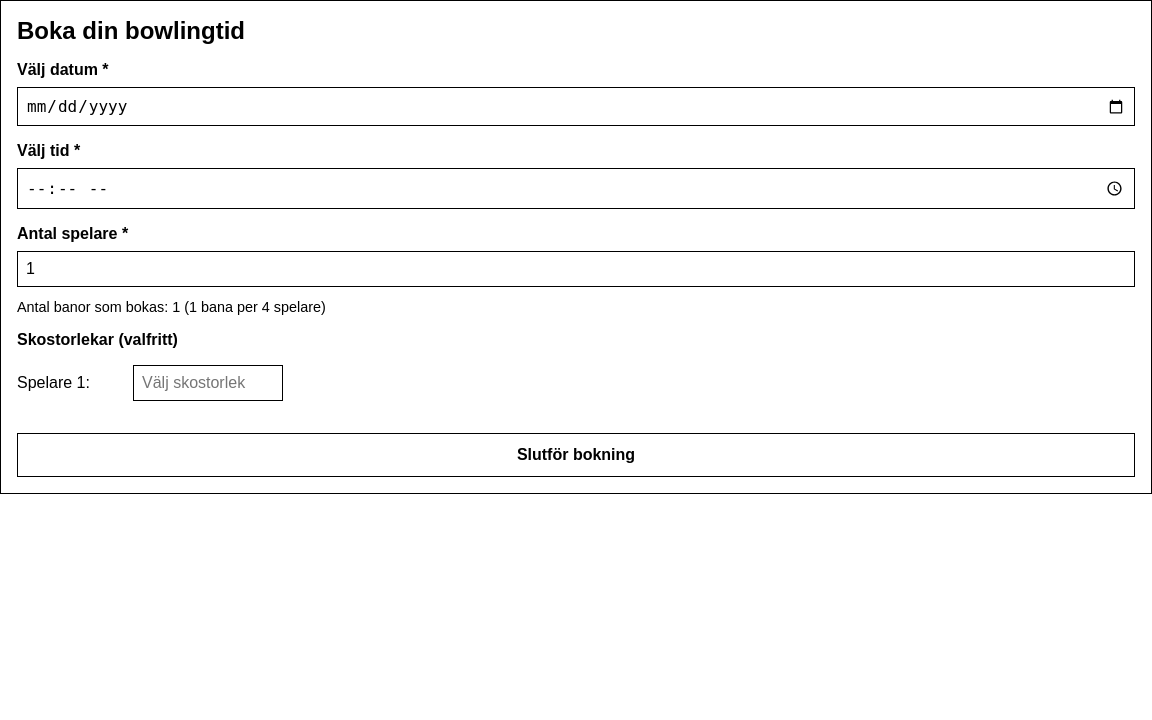
Test case: BookingPage › User Story 3: Ta bort skostorleksfält › ska kunna ta bort skostorlek genom att klicka på "-"-knappen
The width and height of the screenshot is (1152, 720).
In the number field with test id "shoe-size-input-1": point(208, 383) [133,365,283,401], type "42"
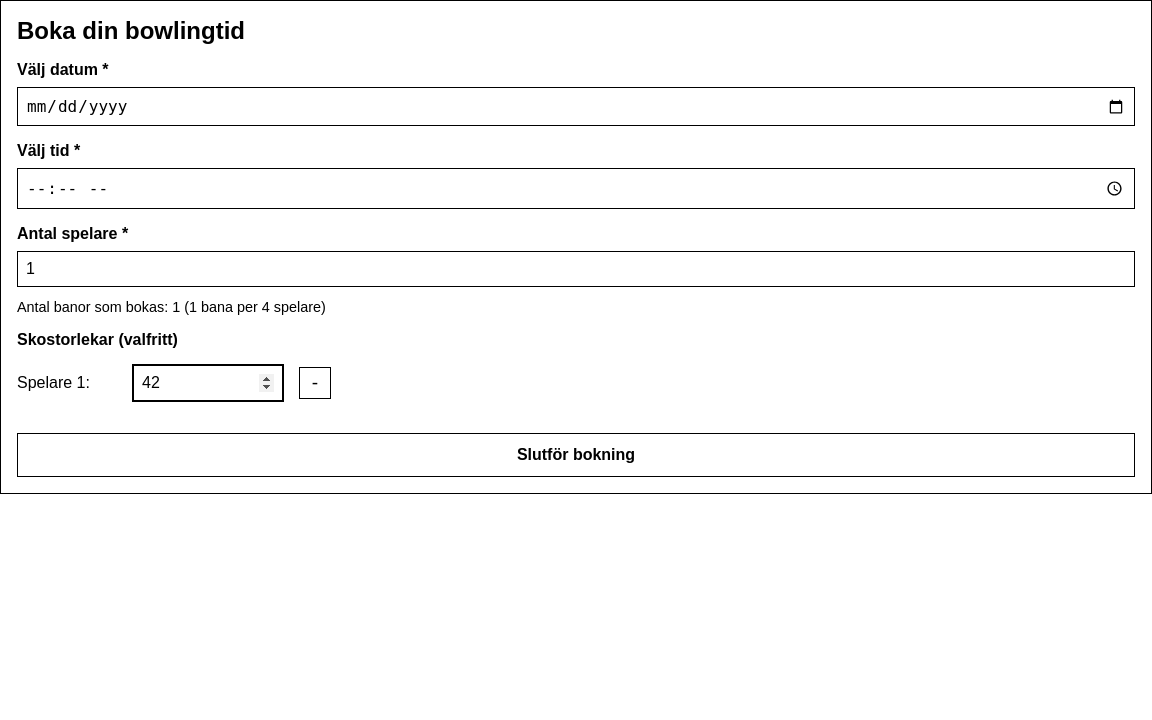
Click the button with test id "remove-shoe-1": point(315, 383) [299,367,331,399]
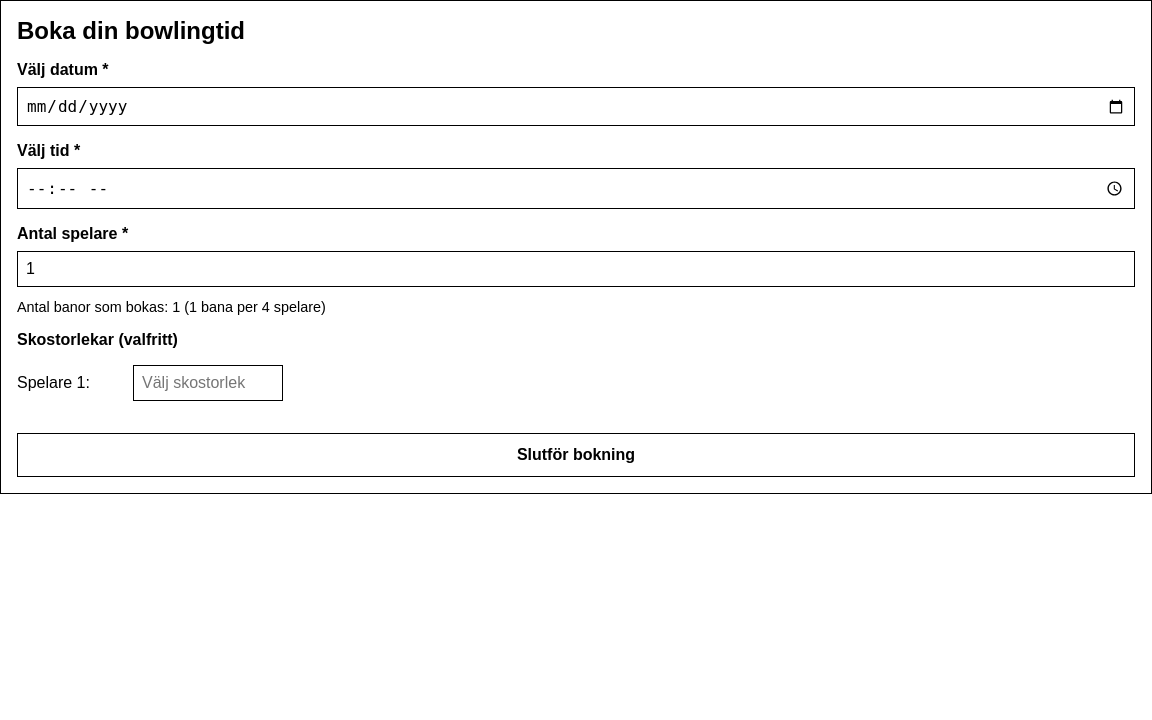
Expected: the number field with test id "shoe-size-input-1" is not empty, [133,365,283,401]
Expected: the button with test id "remove-shoe-1" is gone
